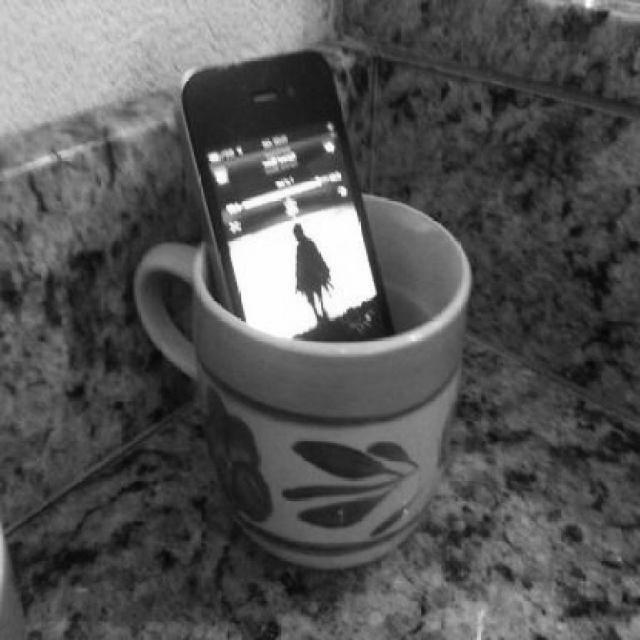fake: (176, 56, 410, 382)
